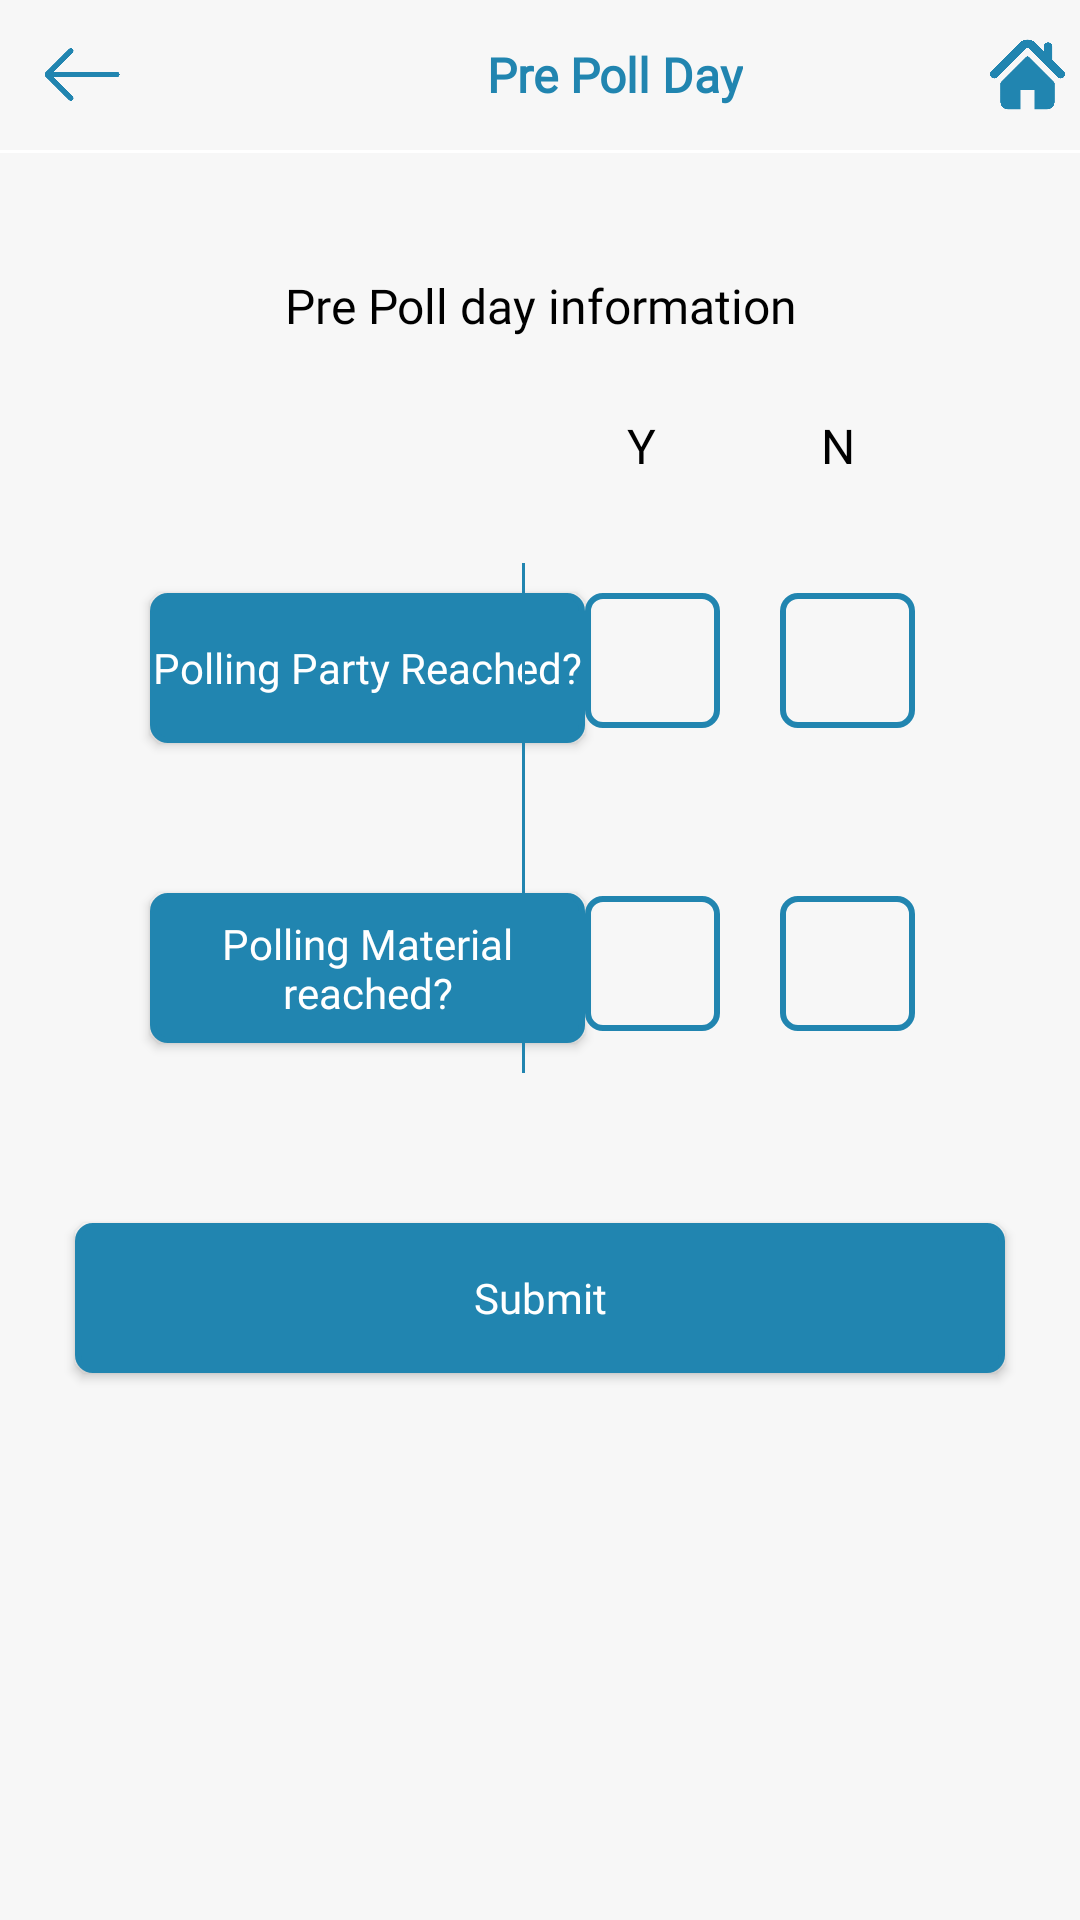

Named icons in this screenshot (1080px×1920px) and their centers, [x,y]:
back: [82,74]
home: [1027,74]
